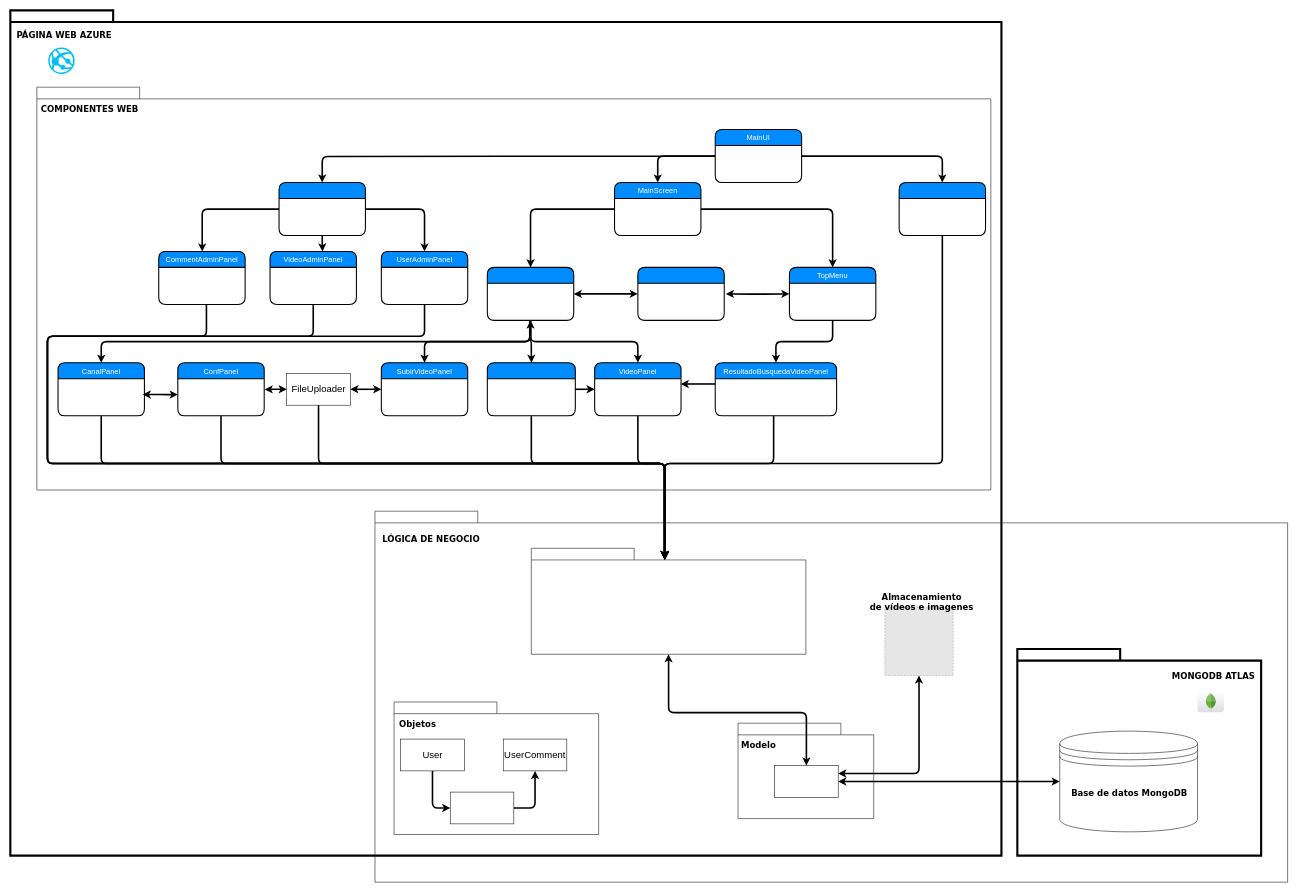
This 1297x891 diagram has some shape labels left out. Grey dashed boxes stand in for pictures. The centre of each missing label's shape, as x and y in pixels:
"Controladores" belongs at (x=668, y=601).
"DAO" belongs at (x=806, y=781).
"ErrorView" belongs at (x=681, y=294).
"LoginScreen" belongs at (x=942, y=209).
"MainScreenAdmin" belongs at (x=322, y=209).
"Menu" belongs at (x=530, y=294).
"SuscripcionesPanel" belongs at (x=531, y=389).
"UserVideo" belongs at (x=482, y=808).
